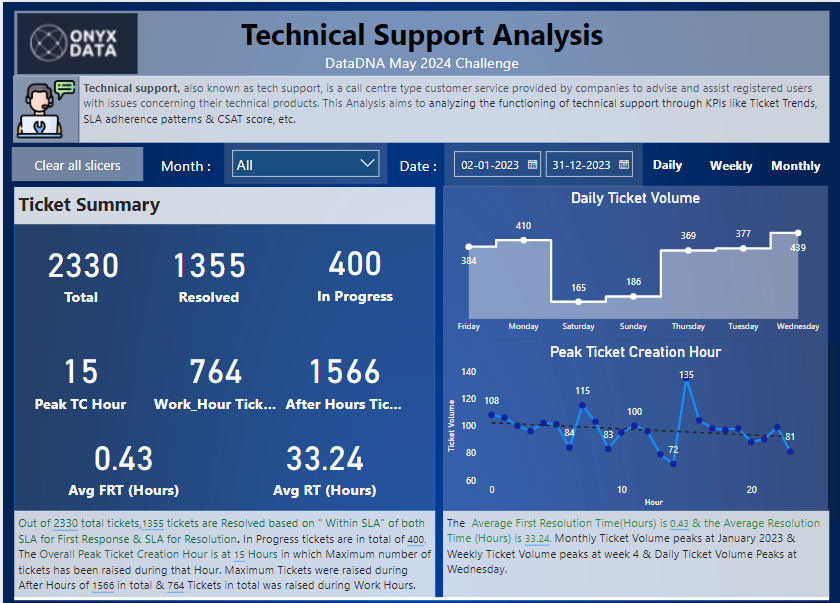

Layout of this report page (visuals, bound fields, positions):
{"tool":"powerbi","page":{"name":"Techninal Support Analysis","canvas":[1080,1980],"ordinal":0},"visuals":[{"type":"shape","box":[13.6,1461,274.6,105.1],"z":0},{"type":"shape","box":[13.8,237.9,543.1,419],"z":1000},{"type":"textbox","box":[13.8,10.8,1052.3,84.6],"z":2000},{"type":"lineChart","title":"Peak Ticket Creation Hour","fields":{"Category":["Data.Createdtime_Hour"],"Y":["CountNonNull(Data.Ticket ID)"]},"box":[567.7,435.5,496.8,221],"z":3000},{"type":"card","fields":{"Values":["Key Measures.Peak_Ticket_Creation_Hour"]},"box":[13.8,424.1,170.7,120.7],"z":4000},{"type":"card","title":"Total","fields":{"Values":["Key Measures.Daily Ticket Volume"]},"box":[13.5,286.5,181.1,120.3],"z":5000},{"type":"image","box":[12.1,10.3,169,87.9],"z":6000},{"type":"areaChart","title":"Daily Ticket Volume","fields":{"Y":["Key Measures.Daily Ticket Volume"],"Category":["Calender.Day"]},"box":[567.7,237.1,496.8,198.4],"z":9000},{"type":"actionButton","title":"Daily Button","box":[817.2,186.2,79.3,44.8],"z":10000},{"type":"actionButton","title":"Weekly Button","box":[896.6,187.9,86.2,43.1],"z":11000},{"type":"actionButton","title":"Monthly Button","box":[981,186.2,84.5,48.3],"z":12000},{"type":"textbox","box":[98.3,94.9,967.8,86.4],"z":13000},{"type":"image","box":[13.6,94.9,84.7,86.4],"z":14000},{"type":"slicer","fields":{"Values":["Calender.Start of Month"]},"box":[284.7,181.4,210.2,54.2],"z":15000},{"type":"textbox","box":[198.3,193.2,86.4,40.7],"z":16000},{"type":"slicer","fields":{"Values":["Calender.Date"]},"box":[569.5,183.1,255.9,55.9],"z":17000},{"type":"textbox","box":[506.8,193.2,66.1,37.3],"z":18000},{"type":"card","fields":{"Values":["Key Measures.Work Hours Ticket Volume"]},"box":[187.9,424.1,170.7,120.7],"z":19000},{"type":"clusteredColumnChart","title":"Topic Trends","fields":{"Category":["Data.Topic"],"Y":["Key Measures.Daily Ticket Volume","Key Measures.Resolved Tickets","Key Measures.In Progress Tickets"]},"box":[12.1,827.6,544.8,253.4],"z":20000},{"type":"textbox","box":[13.8,656.9,543.1,113.8],"z":21000},{"type":"card","title":"Total","fields":{"Values":["Key Measures.Resolved Tickets"]},"box":[181.1,286.5,170.3,120.3],"z":22000},{"type":"card","title":"Total","fields":{"Values":["Key Measures.In Progress Tickets"]},"box":[369,286.2,170,120],"z":23000},{"type":"textbox","box":[13.8,237.9,543.1,48.3],"z":24000},{"type":"card","fields":{"Values":["Key Measures.After Hours Tickets"]},"box":[355.2,424.1,170,120.7],"z":25000},{"type":"card","fields":{"Values":["Key Measures.Average Resolution Time (Hours)"]},"box":[289.7,536.2,250,120.7],"z":26000},{"type":"card","fields":{"Values":["Key Measures.Average First Response Time (Hours)"]},"box":[25.9,536.2,260.3,120.7],"z":27000},{"type":"textbox","box":[567.2,656.9,498.3,113.8],"z":28000},{"type":"shape","box":[14.1,760.9,1051.6,17.2],"z":29000},{"type":"donutChart","title":"Source Trend ","fields":{"Category":["Data.Source"],"Y":["Key Measures.Daily Ticket Volume"]},"box":[567.2,825.9,256.9,193.1],"z":30000},{"type":"map","title":"Geography Trends of SLA for First Response","fields":{"Category":["Data.Country"],"Size":["Key Measures.Daily Ticket Volume"],"Series":["Data.SLA For first response"]},"box":[567.7,1019.4,498.4,296.8],"z":31000},{"type":"columnChart","title":"SLA For first response","fields":{"Category":["Data.SLA For first response"],"Y":["CountNonNull(Data.Ticket ID)"]},"box":[13.8,1081,274.1,234.5],"z":32000},{"type":"clusteredColumnChart","title":"SLA For Resolution","fields":{"Category":["Data.SLA For Resolution"],"Y":["CountNonNull(Data.Ticket ID)"]},"box":[287.9,1081,269,234.5],"z":33000},{"type":"slicer","fields":{"Values":["Data.Country"]},"box":[650,775.8,159.7,50],"z":34000},{"type":"textbox","box":[567.7,785.5,111.3,40.3],"z":35000},{"type":"slicer","fields":{"Values":["Data.Priority"]},"box":[896.8,775.8,169.4,50],"z":36000},{"type":"textbox","box":[816.1,787.1,96.8,40.3],"z":37000},{"type":"donutChart","title":"Product Trend ","fields":{"Y":["Key Measures.Daily Ticket Volume"],"Category":["Data.Product group"]},"box":[824.1,825.9,241.4,193.1],"z":38000},{"type":"textbox","box":[12.1,777.6,546.6,48.3],"z":39000},{"type":"textbox","box":[13.8,1315.5,543.1,91.4],"z":40000},{"type":"textbox","box":[567.7,1316.1,498.4,91.9],"z":41000},{"type":"shape","box":[14.5,1398.4,1051.6,17.7],"z":42000},{"type":"clusteredBarChart","title":"Agent SLA for Resolution","fields":{"Category":["Data.Agent Name"],"Y":["CountNonNull(Data.Ticket ID)","Key Measures.Within_SLA for Resolution","Key Measures.SLA Violated for Resolution"]},"box":[567.8,1461,491.5,355.9],"z":44000},{"type":"textbox","box":[13.5,1412.2,543.2,48.6],"z":45000},{"type":"card","fields":{"Values":["Key Measures.CSAT Score (%)"]},"box":[13.6,1437.3,271.2,128.8],"z":46000},{"type":"actionButton","title":"Clear all Button","box":[11.9,186.4,169.5,44.1],"z":47000},{"type":"actionButton","title":"First Response Button","box":[786.2,1415.5,139.7,39.7],"z":48000},{"type":"actionButton","title":"Resolution Button","box":[927.1,1416.9,139,40.7],"z":49000},{"type":"pivotTable","title":"Topic  CSAT %","fields":{"Rows":["Data.Topic"],"Values":["Key Measures.CSAT Score (%)"]},"box":[11.9,1566.1,278,250.8],"z":50000},{"type":"barChart","title":"Agent  CSAT %","fields":{"Category":["Data.Agent Name"],"Y":["Key Measures.CSAT Score (%)"]},"box":[290,1461,266,356],"z":51000},{"type":"textbox","box":[567.9,1815.3,491.2,94.2],"z":52000},{"type":"textbox","box":[13.8,1816.9,544.6,92.3],"z":53000},{"type":"shape","box":[13.8,1893.8,1052.3,30.8],"z":54000},{"type":"shape","box":[13.8,1924.6,1052.3,30.8],"z":55000},{"type":"textbox","box":[12.3,1909.2,1052.3,30.8],"z":56000},{"type":"textbox","box":[12.4,1940.1,624.1,30.7],"z":57000},{"type":"textbox","box":[636.5,1940.1,430.7,30.7],"z":58000}]}

Visuals, with their boxes on the page's 1080x1980 design canvas (x1, y1, x2, y2). These are canvas units, not pixel positions in the 840x603 screenshot, which may show the page scaled, cropped or inside an application window:
shape: l=14, t=1461, r=288, b=1566
shape: l=14, t=238, r=557, b=657
textbox: l=14, t=11, r=1066, b=95
"Peak Ticket Creation Hour" lineChart: l=568, t=436, r=1064, b=656
card - Key Measures.Peak_Ticket_Creation_Hour: l=14, t=424, r=184, b=545
"Total" card: l=14, t=286, r=195, b=407
image: l=12, t=10, r=181, b=98
"Daily Ticket Volume" areaChart: l=568, t=237, r=1064, b=436
"Daily Button" actionButton: l=817, t=186, r=896, b=231
"Weekly Button" actionButton: l=897, t=188, r=983, b=231
"Monthly Button" actionButton: l=981, t=186, r=1066, b=234
textbox: l=98, t=95, r=1066, b=181
image: l=14, t=95, r=98, b=181
slicer - Calender.Start of Month: l=285, t=181, r=495, b=236
textbox: l=198, t=193, r=285, b=234
slicer - Calender.Date: l=570, t=183, r=825, b=239
textbox: l=507, t=193, r=573, b=230
card - Key Measures.Work Hours Ticket Volume: l=188, t=424, r=359, b=545
"Topic Trends" clusteredColumnChart: l=12, t=828, r=557, b=1081
textbox: l=14, t=657, r=557, b=771
"Total" card: l=181, t=286, r=351, b=407
"Total" card: l=369, t=286, r=539, b=406
textbox: l=14, t=238, r=557, b=286
card - Key Measures.After Hours Tickets: l=355, t=424, r=525, b=545
card - Key Measures.Average Resolution Time (Hours): l=290, t=536, r=540, b=657
card - Key Measures.Average First Response Time (Hours): l=26, t=536, r=286, b=657
textbox: l=567, t=657, r=1066, b=771
shape: l=14, t=761, r=1066, b=778
"Source Trend " donutChart: l=567, t=826, r=824, b=1019
"Geography Trends of SLA for First Response" map: l=568, t=1019, r=1066, b=1316
"SLA For first response" columnChart: l=14, t=1081, r=288, b=1316
"SLA For Resolution" clusteredColumnChart: l=288, t=1081, r=557, b=1316
slicer - Data.Country: l=650, t=776, r=810, b=826
textbox: l=568, t=786, r=679, b=826
slicer - Data.Priority: l=897, t=776, r=1066, b=826
textbox: l=816, t=787, r=913, b=827
"Product Trend " donutChart: l=824, t=826, r=1066, b=1019
textbox: l=12, t=778, r=559, b=826
textbox: l=14, t=1316, r=557, b=1407
textbox: l=568, t=1316, r=1066, b=1408
shape: l=14, t=1398, r=1066, b=1416
"Agent SLA for Resolution" clusteredBarChart: l=568, t=1461, r=1059, b=1817
textbox: l=14, t=1412, r=557, b=1461
card - Key Measures.CSAT Score (%): l=14, t=1437, r=285, b=1566
"Clear all Button" actionButton: l=12, t=186, r=181, b=230
"First Response Button" actionButton: l=786, t=1416, r=926, b=1455
"Resolution Button" actionButton: l=927, t=1417, r=1066, b=1458
"Topic  CSAT %" pivotTable: l=12, t=1566, r=290, b=1817
"Agent  CSAT %" barChart: l=290, t=1461, r=556, b=1817
textbox: l=568, t=1815, r=1059, b=1910
textbox: l=14, t=1817, r=558, b=1909
shape: l=14, t=1894, r=1066, b=1925
shape: l=14, t=1925, r=1066, b=1955
textbox: l=12, t=1909, r=1065, b=1940
textbox: l=12, t=1940, r=636, b=1971
textbox: l=636, t=1940, r=1067, b=1971
